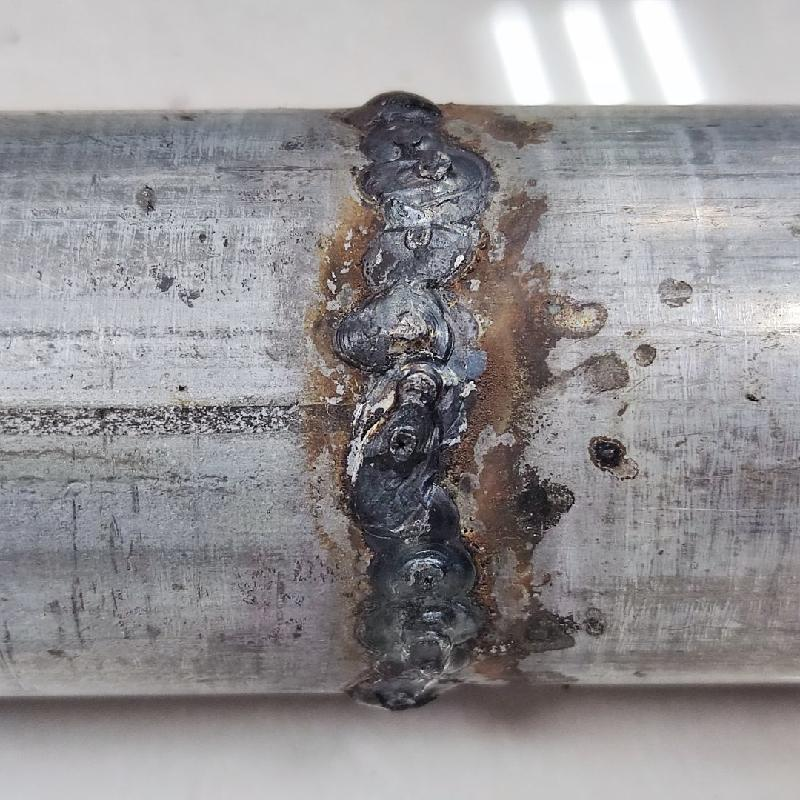Surface_pores: (382, 415, 414, 462)
Weld: (328, 84, 460, 136)
wrong_size: (342, 140, 518, 720)
